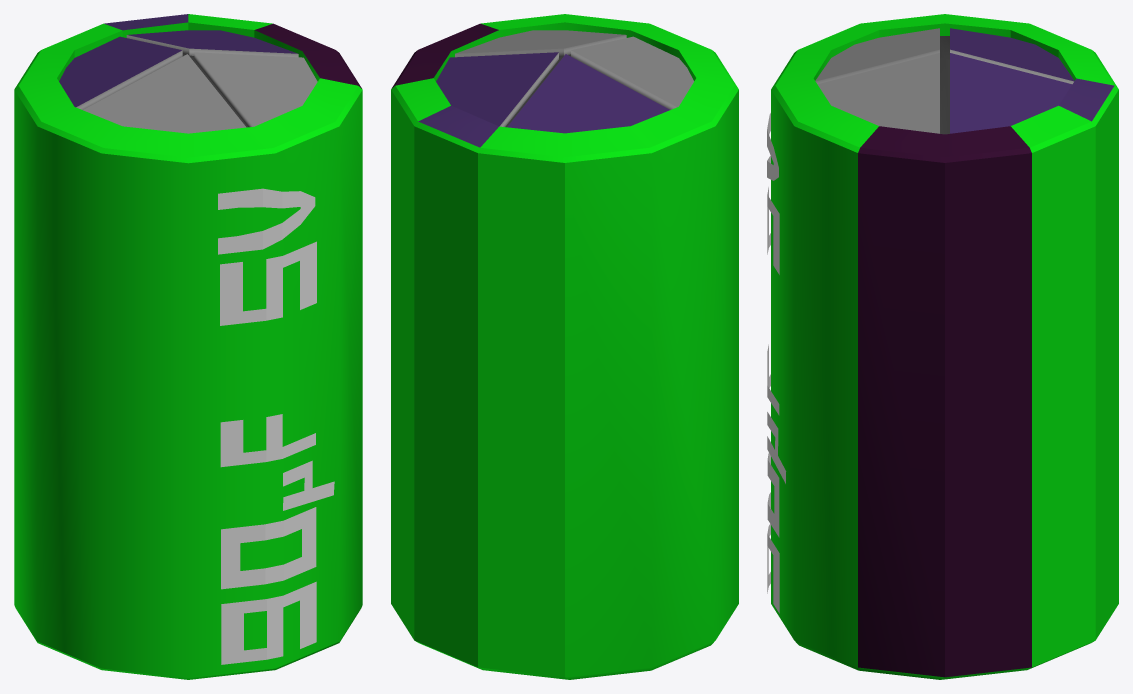
File: zepsuty_kondensator_zielony.fbx
The picture shows the model from 3 angles, left to right: view 1: azimuth 30°, elevation 25°; view 2: azimuth 150°, elevation 25°; view 3: azimuth 270°, elevation 25°; orthographic projection.
Visible parts, largest first — view 1: zepsuty_kondensator_zielony; view 2: zepsuty_kondensator_zielony; view 3: zepsuty_kondensator_zielony.
Boxes of the visible parts, left/top/right/bottom form: zepsuty_kondensator_zielony: left=14, top=14, right=362, bottom=679; zepsuty_kondensator_zielony: left=391, top=14, right=738, bottom=679; zepsuty_kondensator_zielony: left=767, top=14, right=1118, bottom=679.
Size of the model in its own units: 200 by 353 by 202.
